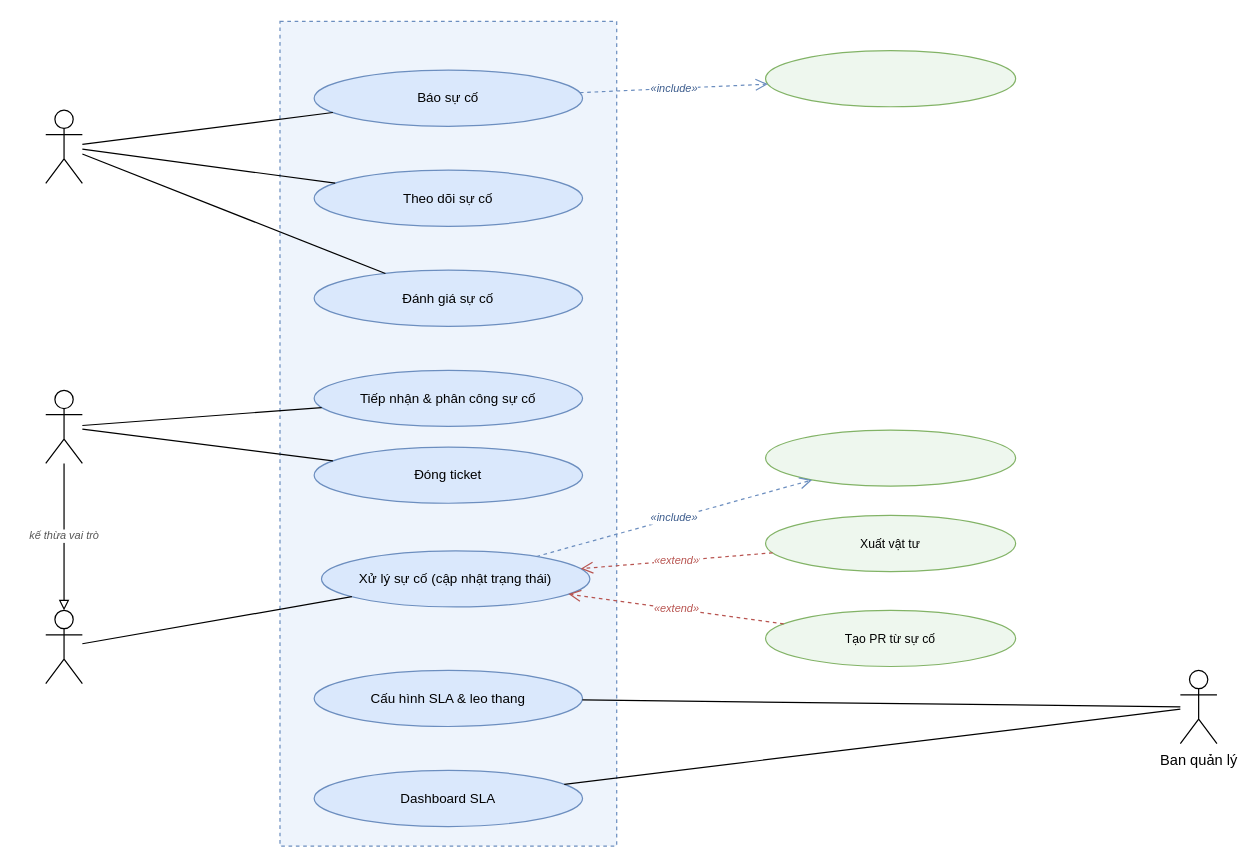
Image size: 1258x867. Some labels were removed from this diagram. The box of each missing label's shape, as (x1, y1, x2, y2) in pixels:
Cư dân: (45, 109, 82, 183)
Cập nhật trạng thái: (764, 429, 1016, 486)
Kỹ sư trưởng: (45, 389, 82, 463)
Kỹ thuật viên: (45, 609, 82, 684)
Sự cố & giám sát SLA: (279, 20, 617, 846)
Đính ảnh minh chứng: (764, 49, 1016, 107)
